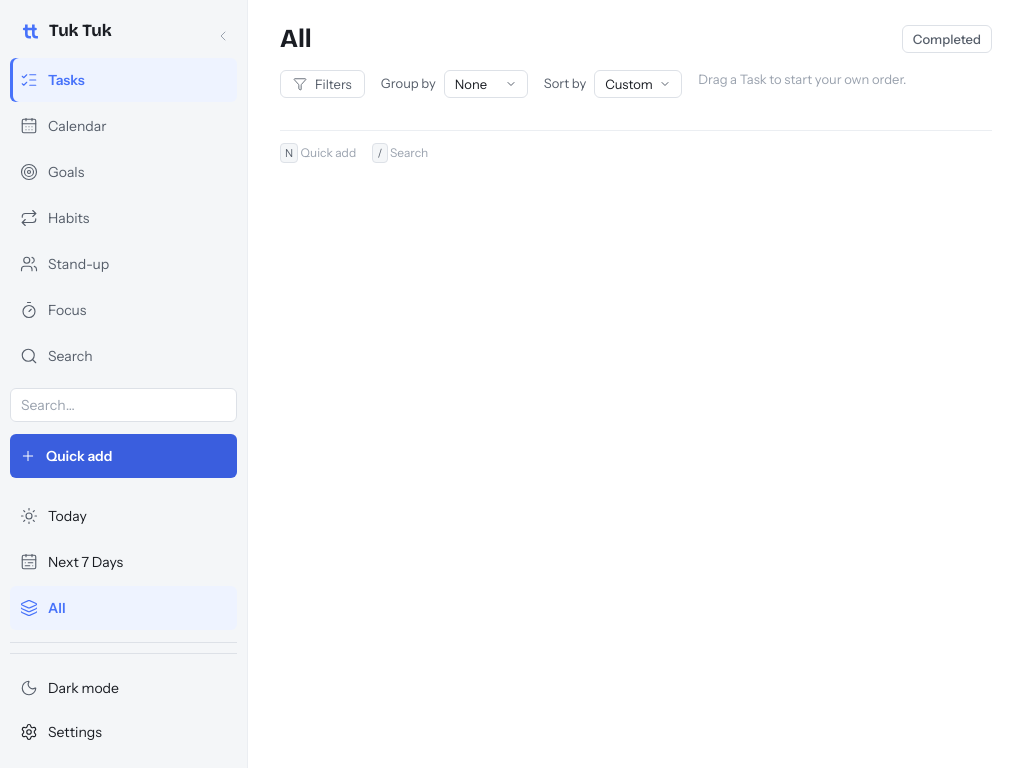
Events on the calendar stay read-only (issue #203) › clips a multi-day timed Event into a segment per day rather than one all-day banner
Click the link "Calendar": (63, 126) top-left (20, 116), bottom-right (106, 135)
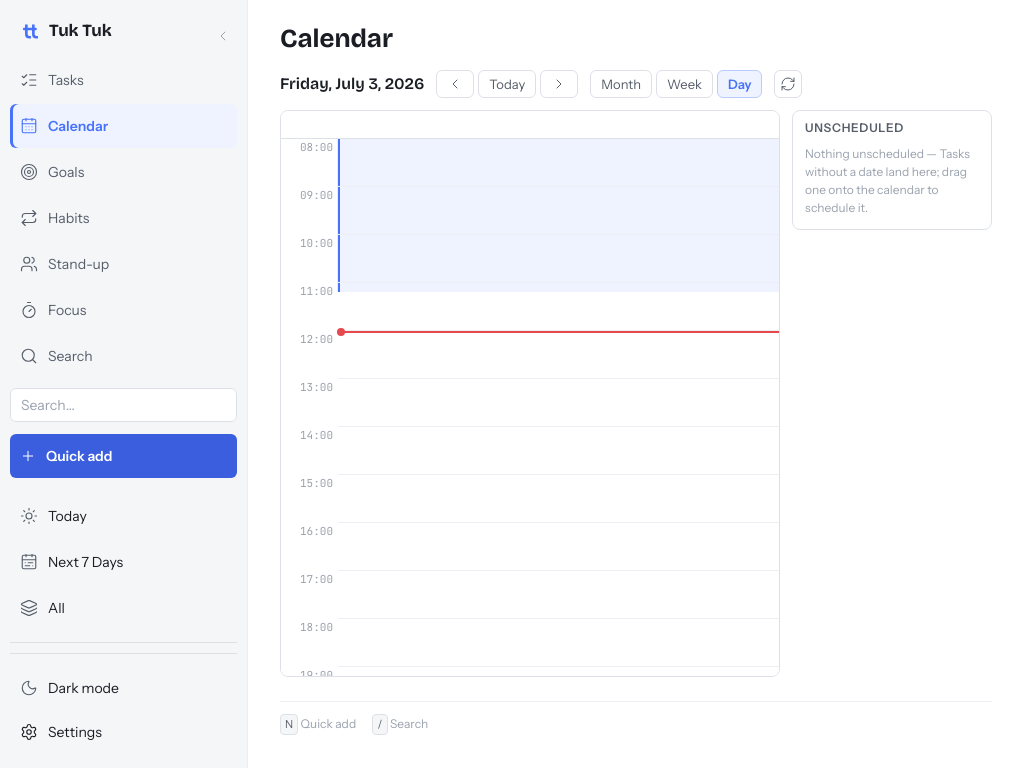
Result: the heading "Friday, July 3, 2026" is shown at top-left (280, 72), bottom-right (424, 96)
Click the button "Month": (621, 84) top-left (590, 70), bottom-right (652, 98)
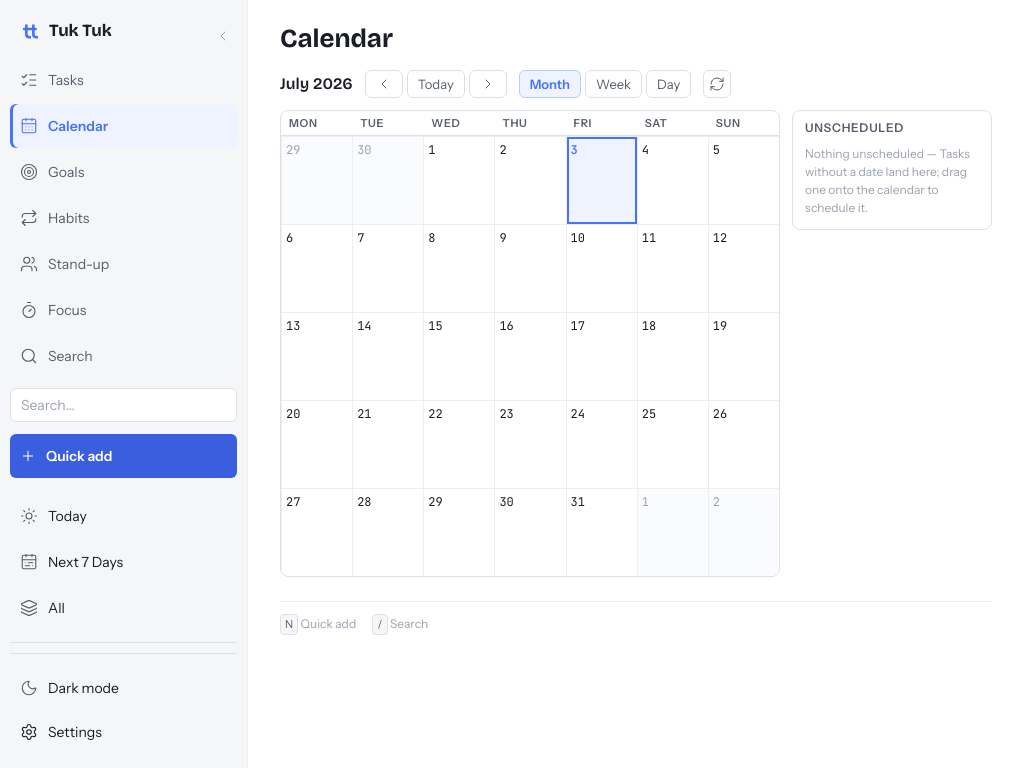
Result: the heading "July 2026" is shown at top-left (280, 72), bottom-right (353, 96)
Click the button "Week": (614, 84) top-left (585, 70), bottom-right (642, 98)
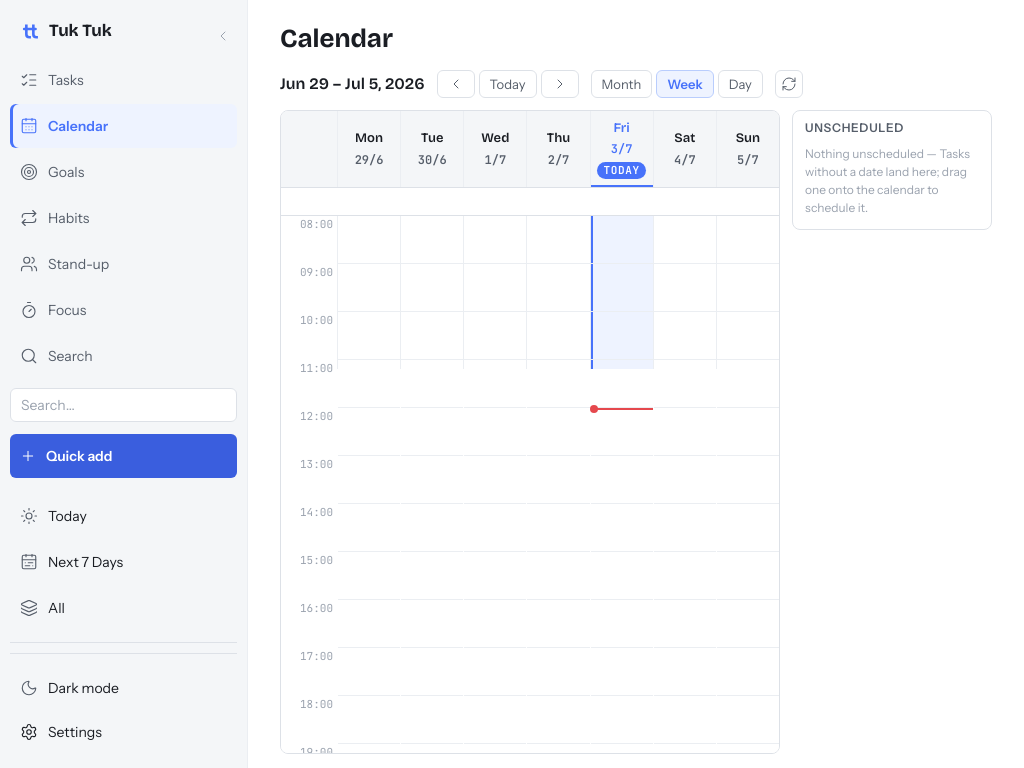
Result: the heading "Jun 29 – Jul 5, 2026" is shown at top-left (280, 72), bottom-right (425, 96)
